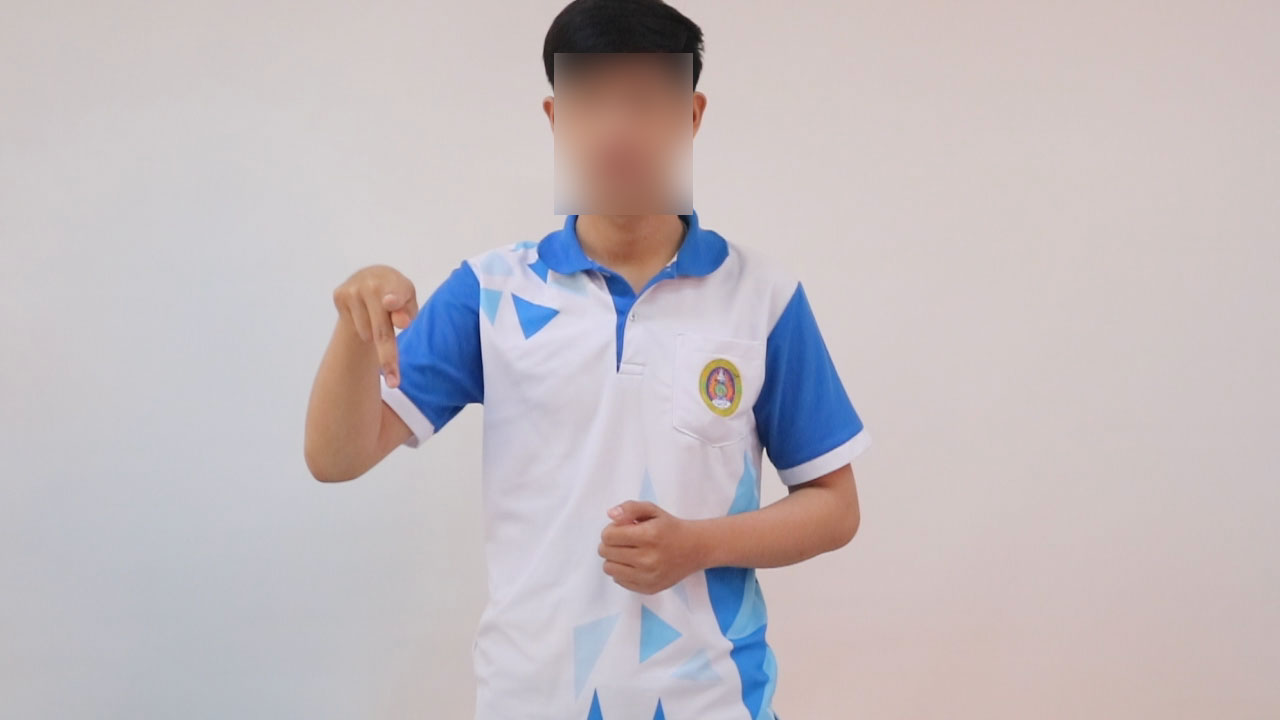por: (328, 242, 427, 392)
